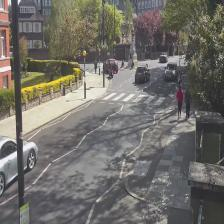person: (184, 86, 192, 118), (176, 84, 183, 118)
